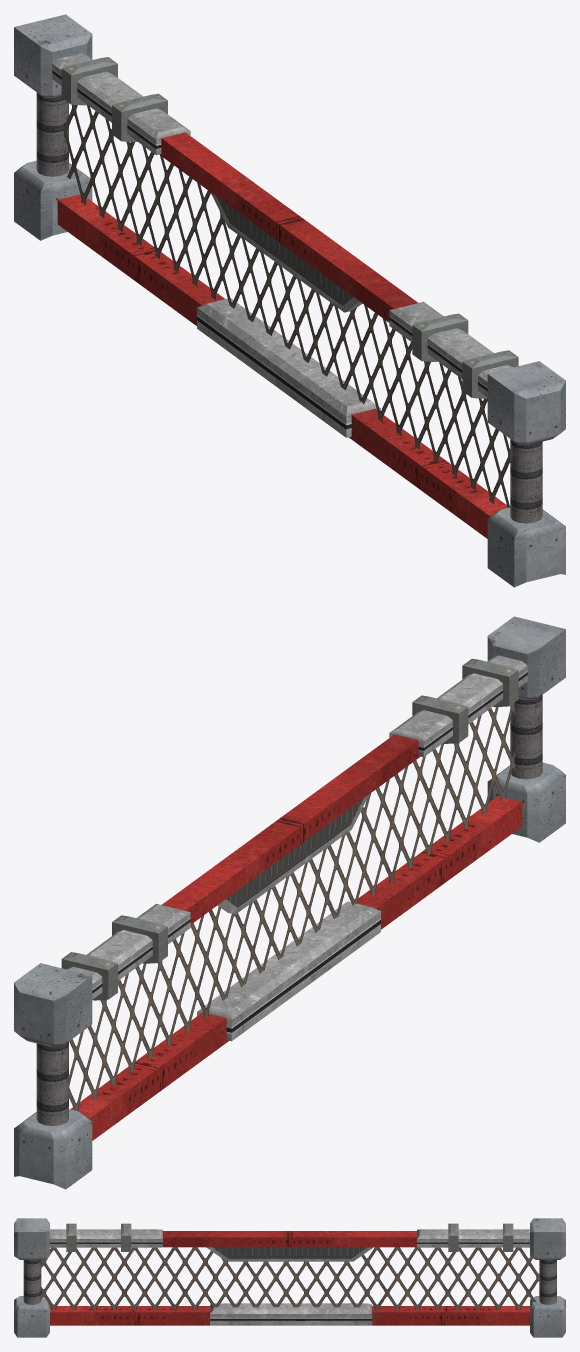
The model's file is Ob_FenceLow_RC.fbx.
3 renders of one model, top to bottom at view 1: azimuth 30°, elevation 25°; view 2: azimuth 150°, elevation 25°; view 3: azimuth 270°, elevation 25°, orthographic. The views are drawn at different scales.
Visible parts, largest first — view 1: Ob_FenceLow_RC; view 2: Ob_FenceLow_RC; view 3: Ob_FenceLow_RC.
Boxes of the visible parts, bbox=[...] form: Ob_FenceLow_RC: bbox=[14, 14, 565, 587]; Ob_FenceLow_RC: bbox=[14, 616, 565, 1189]; Ob_FenceLow_RC: bbox=[14, 1218, 565, 1337].
Size of the model in its own units: 67.88 by 243 by 1150.
